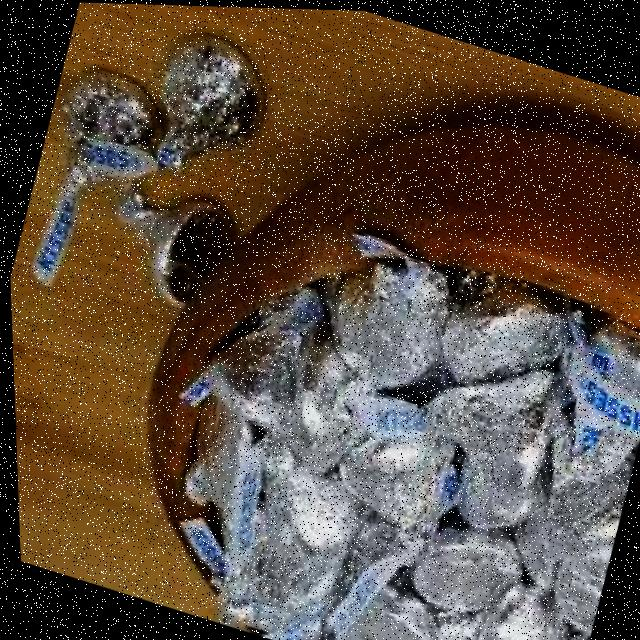kisses: (181, 263, 350, 462), (395, 323, 572, 502), (125, 13, 287, 201), (293, 237, 471, 408), (409, 245, 588, 415), (220, 425, 381, 603), (28, 50, 183, 228), (89, 157, 246, 331), (516, 298, 640, 510), (382, 500, 533, 640), (156, 384, 280, 542), (410, 420, 554, 551), (501, 470, 621, 618), (309, 559, 449, 640), (452, 567, 591, 640)
